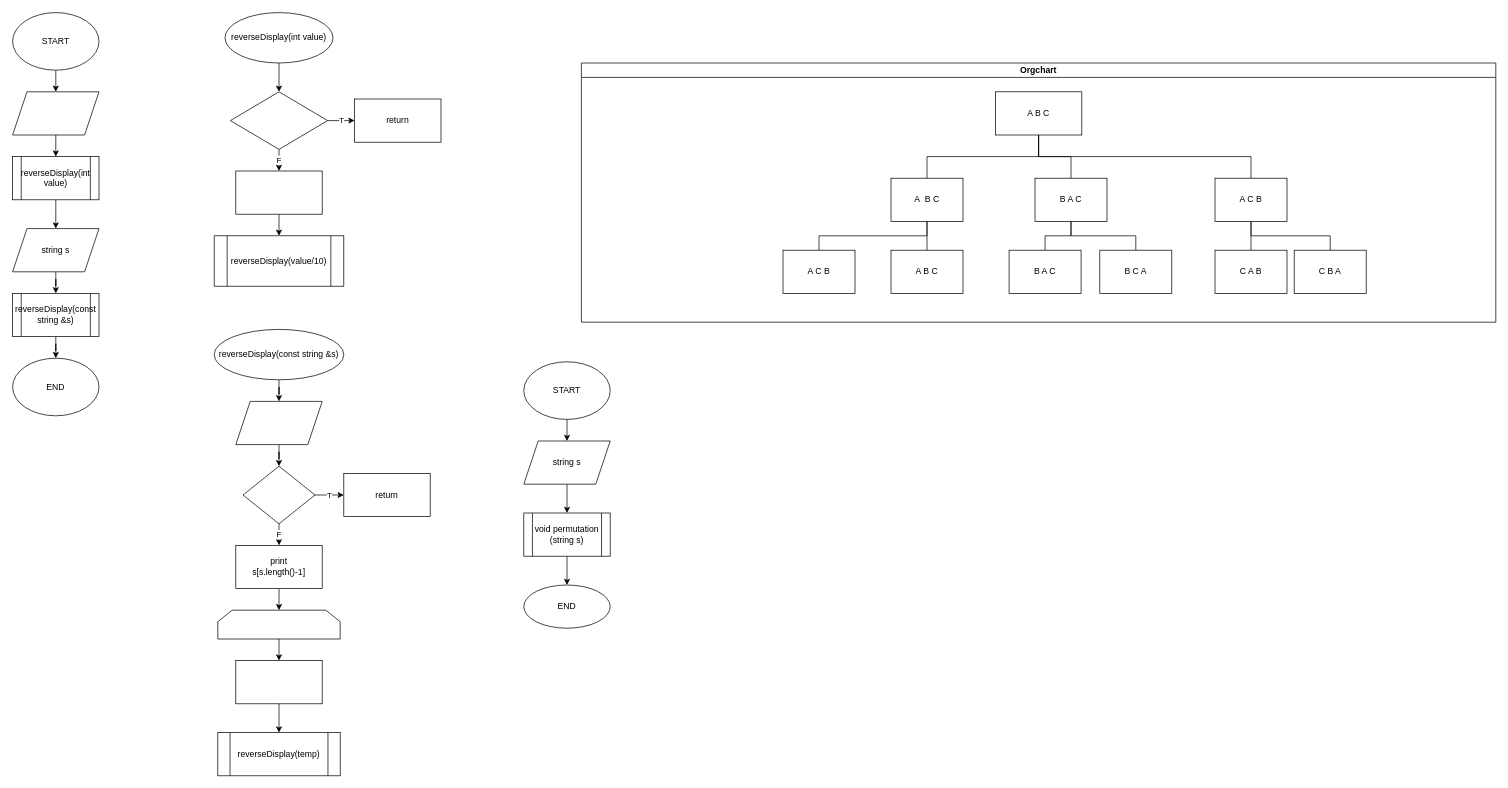
The diagram is 1508 pixels wide and 788 high, and some of its shapes have lost their labels. The centre of each missing label's shape, as x and y in pixels:
i =0 i<s.length()-1 i++: point (278, 624)
int value: point (55, 113)
s.length() == 0?: point (278, 494)
string temp: point (278, 423)
temp += s[i]: point (278, 682)
value %10: point (278, 192)
value==0?: point (279, 120)
